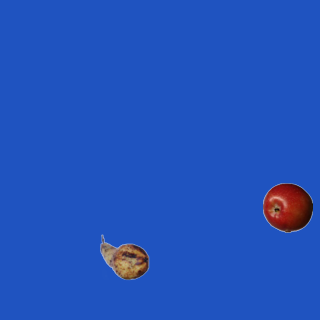Apple Braeburn: (262, 182, 312, 232)
Pear Abate: (99, 232, 149, 282)
